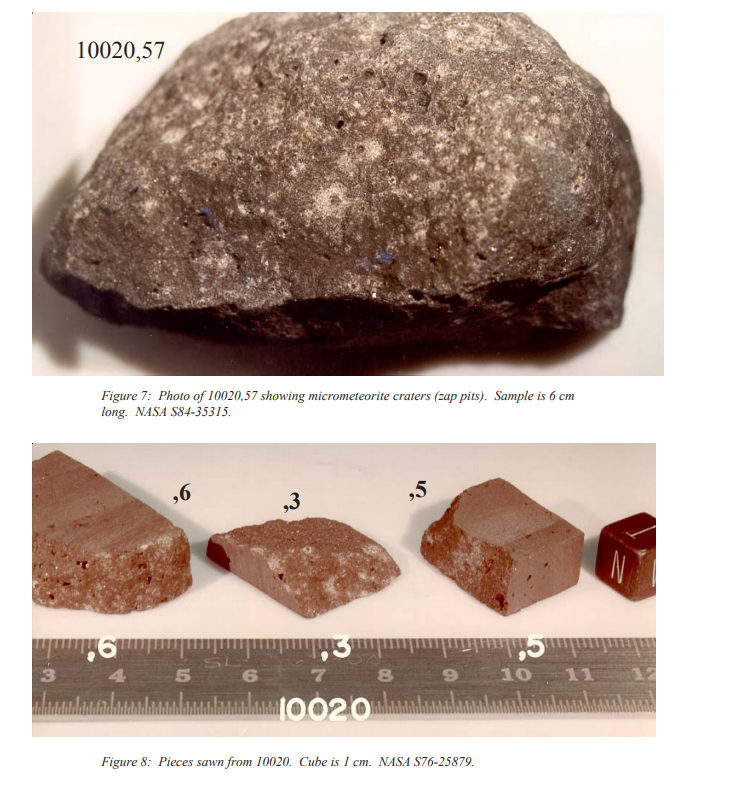Basalt: (31, 11, 665, 379), (210, 448, 404, 632), (30, 445, 196, 620), (420, 455, 589, 620)
